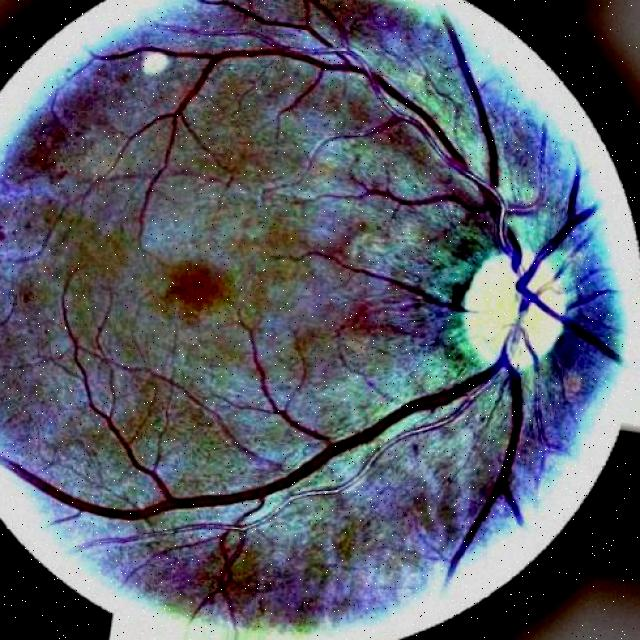Macula: (154, 254, 246, 331)
Nerves: (193, 364, 496, 519), (510, 173, 625, 366), (451, 377, 527, 578), (452, 48, 524, 250)
Optic Disk: (460, 253, 572, 371)
